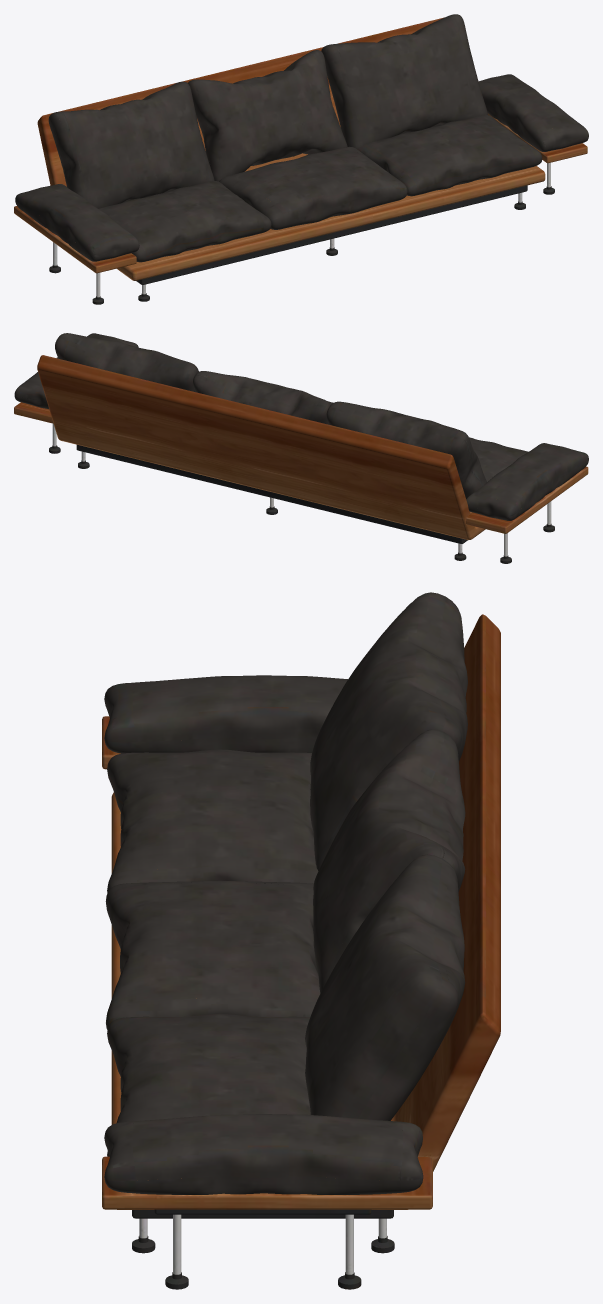
File: sofa-leather-wood.glb
3 views of the same model, one above another, from view 1: azimuth 30°, elevation 25°; view 2: azimuth 150°, elevation 25°; view 3: azimuth 270°, elevation 25° (orthographic). The views are drawn at different scales.
Visible parts, largest first — view 1: BRALSOFA_BRALSOFA_0; view 2: BRALSOFA_BRALSOFA_0; view 3: BRALSOFA_BRALSOFA_0.
Boxes of the visible parts, left/top/right/bottom form: BRALSOFA_BRALSOFA_0: left=14, top=14, right=588, bottom=304; BRALSOFA_BRALSOFA_0: left=14, top=333, right=588, bottom=563; BRALSOFA_BRALSOFA_0: left=102, top=592, right=500, bottom=1289.
Size of the model in its own units: 2 by 0.5338 by 0.6942.
1 material, 1 textured.
